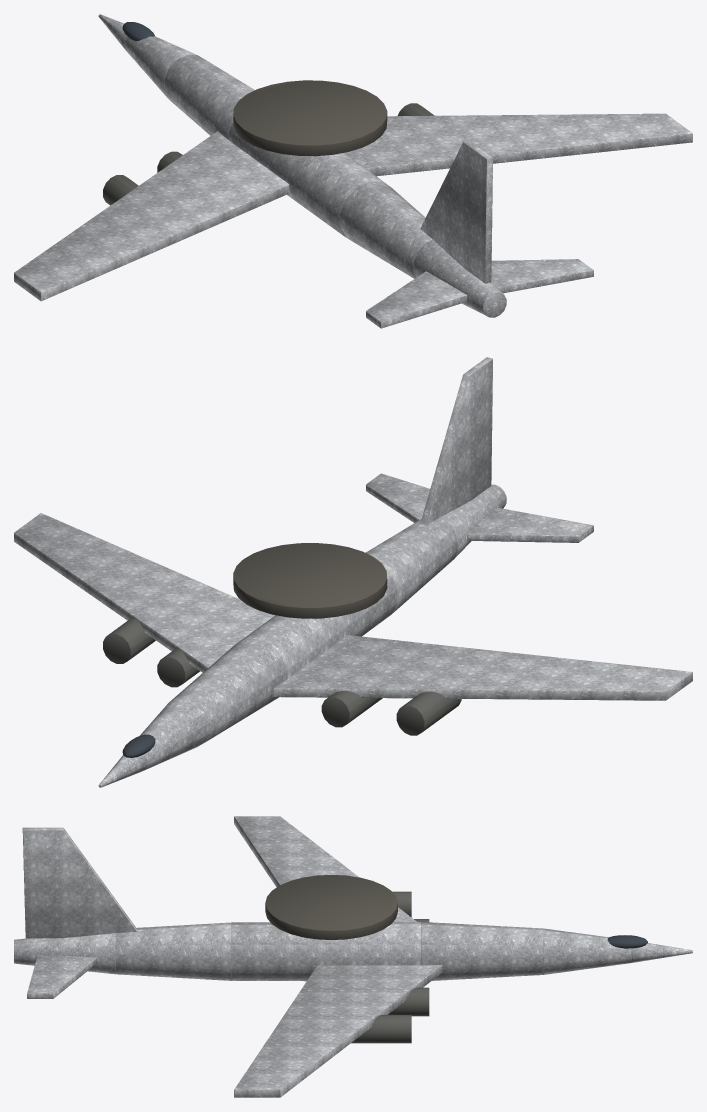
Rendered from aew_e3_us_aewc_LOD0.glb.
3 renders of one model, top to bottom at view 1: azimuth 30°, elevation 25°; view 2: azimuth 150°, elevation 25°; view 3: azimuth 270°, elevation 25°, orthographic. The views are drawn at different scales.
Visible parts, largest first — view 1: aew_e3_us_aewc_LOD0_body, aew_e3_us_aewc_LOD0_deck, aew_e3_us_aewc_LOD0_gun; view 2: aew_e3_us_aewc_LOD0_body, aew_e3_us_aewc_LOD0_deck, aew_e3_us_aewc_LOD0_gun; view 3: aew_e3_us_aewc_LOD0_body, aew_e3_us_aewc_LOD0_deck, aew_e3_us_aewc_LOD0_gun, aew_e3_us_aewc_LOD0_glass.
Boxes of the visible parts, <box> form: aew_e3_us_aewc_LOD0_body: <box>14,14,692,328</box>; aew_e3_us_aewc_LOD0_deck: <box>233,80,387,156</box>; aew_e3_us_aewc_LOD0_gun: <box>103,103,434,205</box>; aew_e3_us_aewc_LOD0_body: <box>14,357,692,787</box>; aew_e3_us_aewc_LOD0_deck: <box>233,543,387,618</box>; aew_e3_us_aewc_LOD0_gun: <box>103,618,461,735</box>; aew_e3_us_aewc_LOD0_body: <box>14,816,692,1097</box>; aew_e3_us_aewc_LOD0_deck: <box>265,874,397,939</box>; aew_e3_us_aewc_LOD0_gun: <box>351,891,429,1043</box>; aew_e3_us_aewc_LOD0_glass: <box>607,935,647,948</box>.
Size of the model in its own units: 44.4 by 11.48 by 46.6.
Materials: 4 (1 with a texture image).
